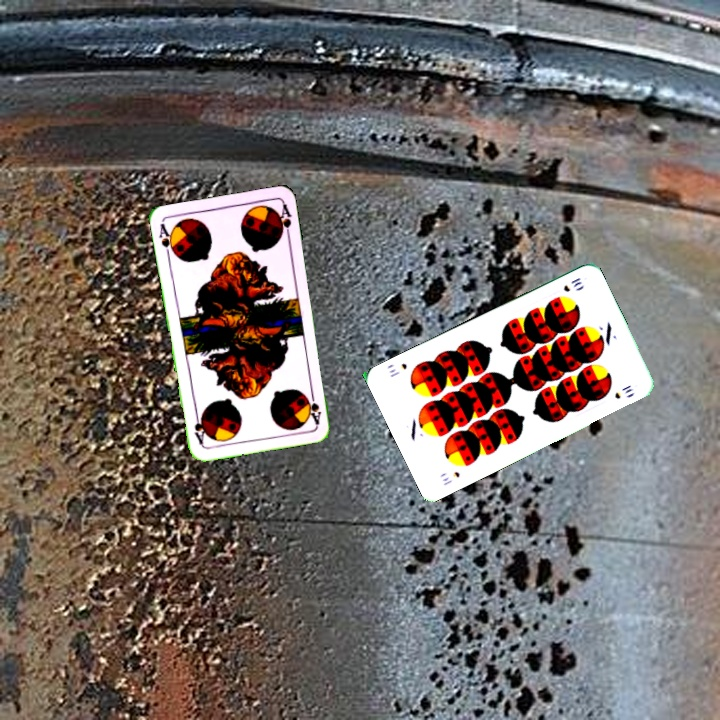S10: (559, 273, 584, 294), (438, 467, 462, 488)
SA: (155, 220, 178, 260), (305, 386, 324, 427)
